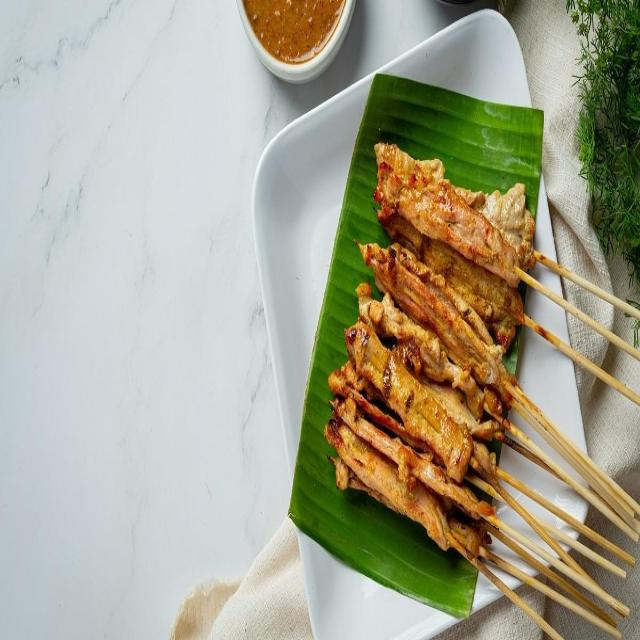Sate: (325, 98, 640, 640)
